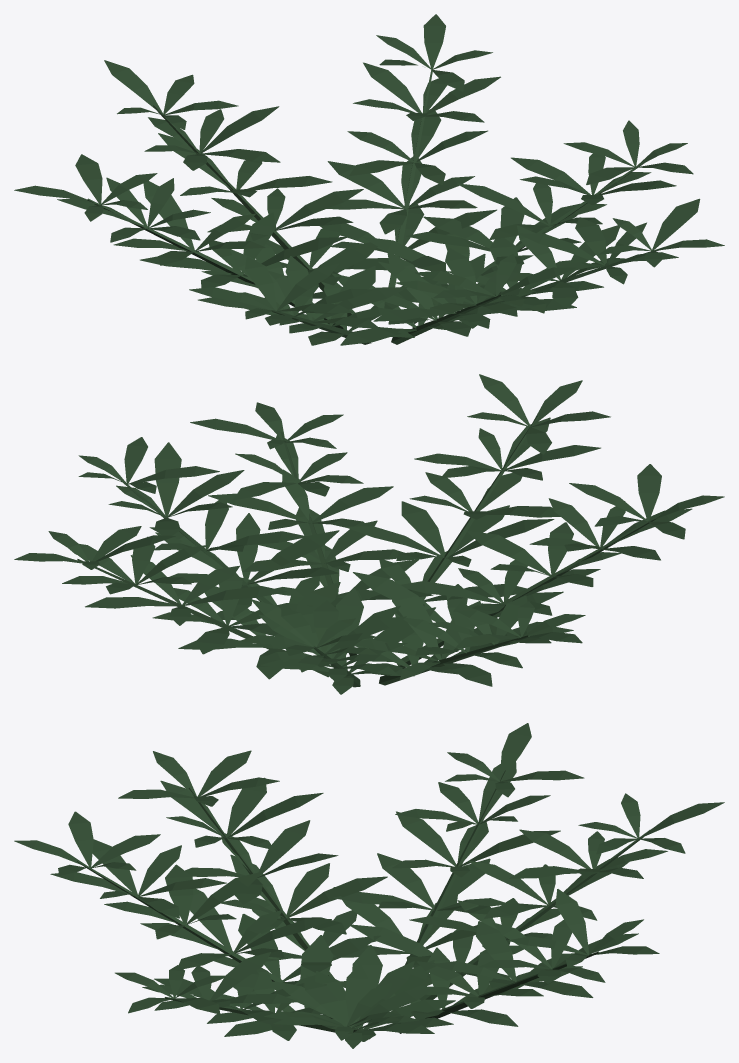
File: plant_012c_coontail.glb
3 renders of one model, top to bottom at view 1: azimuth 30°, elevation 25°; view 2: azimuth 150°, elevation 25°; view 3: azimuth 270°, elevation 25°, orthographic. The views are drawn at different scales.
Parts seen in each view (by area): view 1: plant_012c_coontail__chunky_whorls, plant_012c_coontail__stems; view 2: plant_012c_coontail__chunky_whorls, plant_012c_coontail__stems; view 3: plant_012c_coontail__chunky_whorls, plant_012c_coontail__stems.
Boxes of the visible parts, x1,y1,x2,y2 form: plant_012c_coontail__chunky_whorls: (14, 14, 724, 345); plant_012c_coontail__stems: (87, 57, 664, 344); plant_012c_coontail__chunky_whorls: (14, 374, 724, 694); plant_012c_coontail__stems: (77, 415, 661, 687); plant_012c_coontail__chunky_whorls: (14, 723, 724, 1048); plant_012c_coontail__stems: (77, 770, 650, 1039).
Size of the model in its own units: 3.11 by 0.906 by 3.26.
